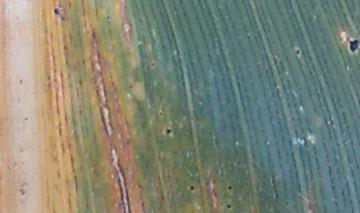tarspot: (347, 37, 360, 53), (52, 7, 60, 17), (165, 127, 173, 136), (22, 114, 31, 122), (77, 77, 84, 87), (91, 30, 98, 40), (188, 184, 195, 192), (127, 82, 134, 90), (135, 182, 143, 189), (80, 58, 87, 66), (226, 184, 233, 191), (149, 60, 156, 67), (294, 48, 300, 56), (62, 43, 68, 51), (225, 203, 232, 209), (17, 78, 23, 85), (158, 110, 163, 117), (105, 15, 112, 20)
